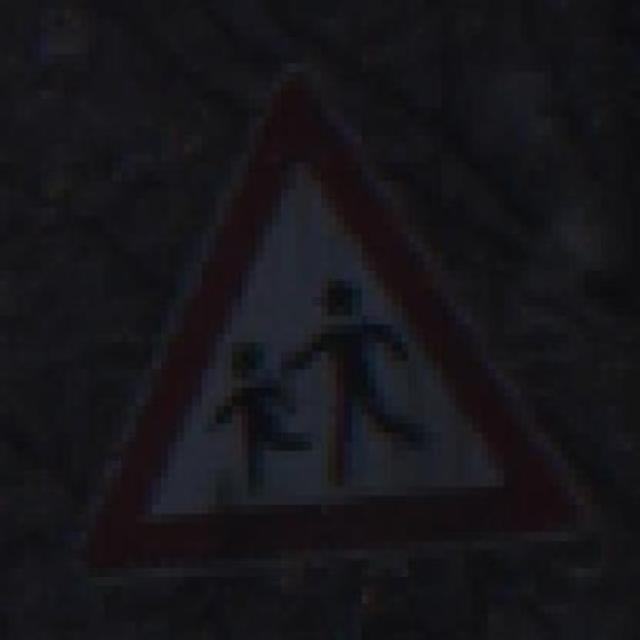Beware of children: (41, 71, 594, 575)
